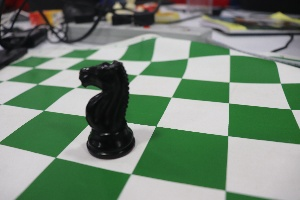black_horse: (67, 49, 142, 164)
